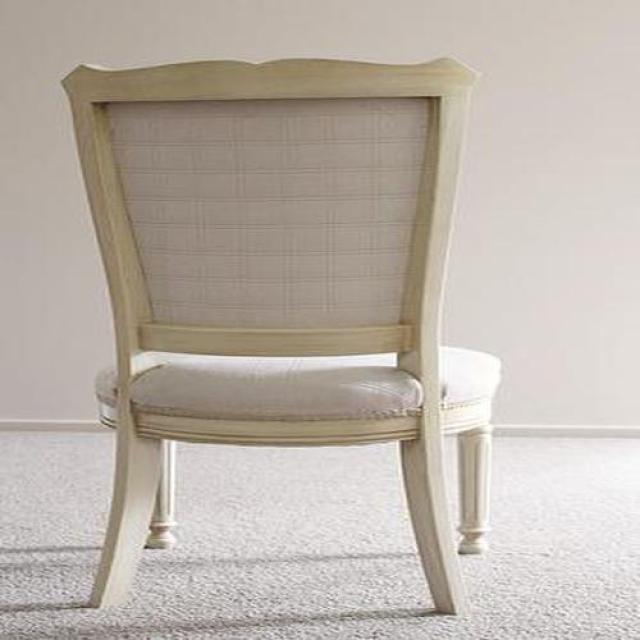chair: (60, 58, 495, 617)
